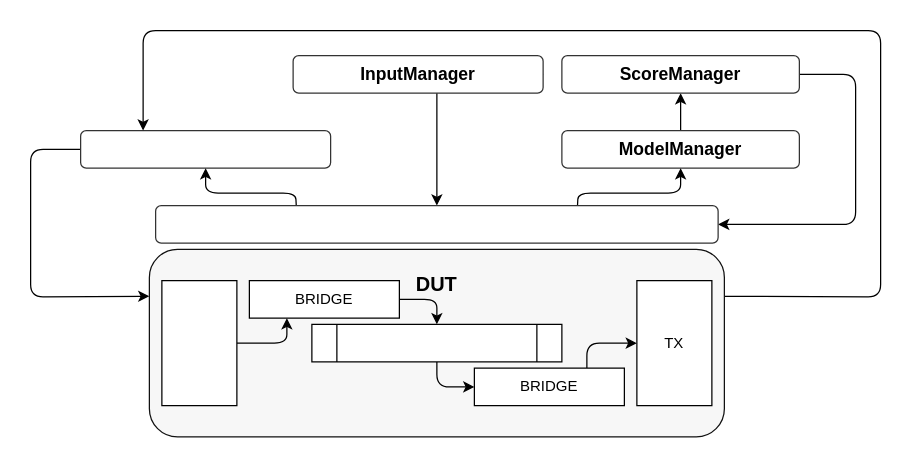
Some shapes in this 913 by 459 pixel diagram are drawn without their labels. Here are the shapes that lost their labels. From the top down, the box of each, then its label:
(79, 129, 331, 168): HandshakeManager
(154, 204, 718, 243): TestManager
(161, 279, 237, 406): RX
(311, 323, 562, 362): AXI RAM
